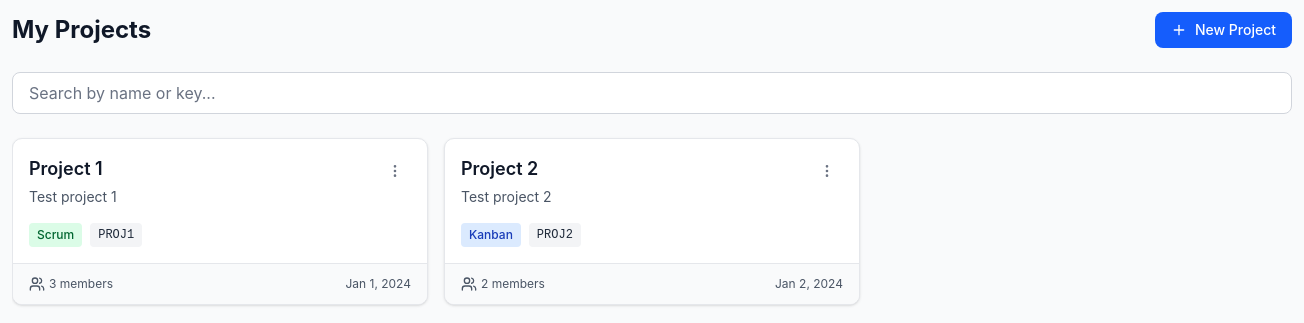
Test: ProjectListPage › should filter projects by name
Step 1. Type "Project 1" into the field with placeholder "Search by name or key..." → (652, 93), box [12, 72, 1292, 114]
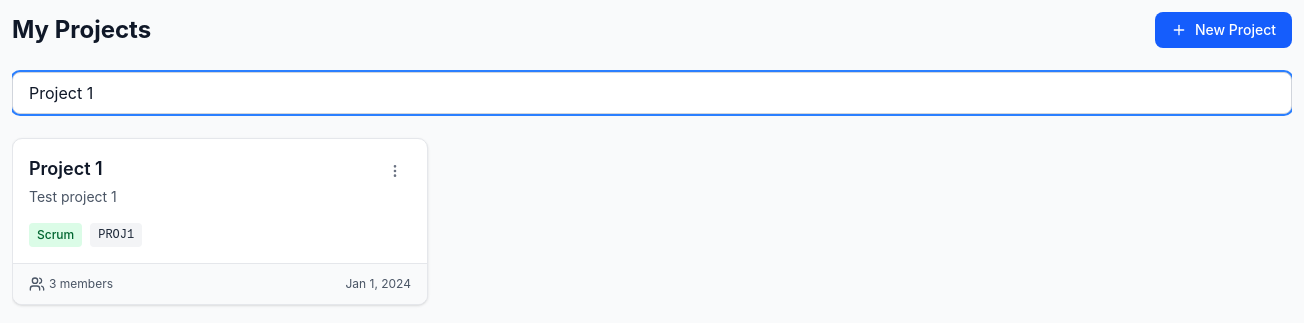
Expected: the heading "Project 1" is shown, [29, 158, 103, 179]
Expected: the heading "Project 2" is gone
